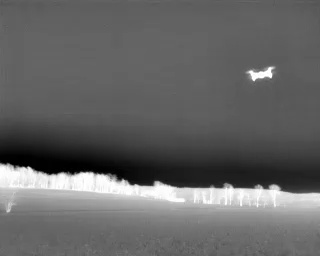DRONE: (242, 63, 280, 87)
